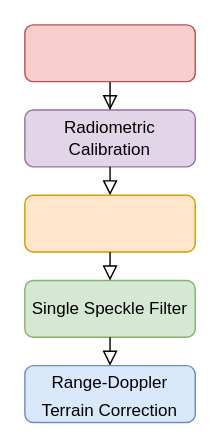
This 220x447 diagram has some shape labels left out. Each missing label, with the centre of its shape:
"Apply Orbit File" goes at pixel 109 52.
"TOPSAR-Deburst" goes at pixel 109 223.
